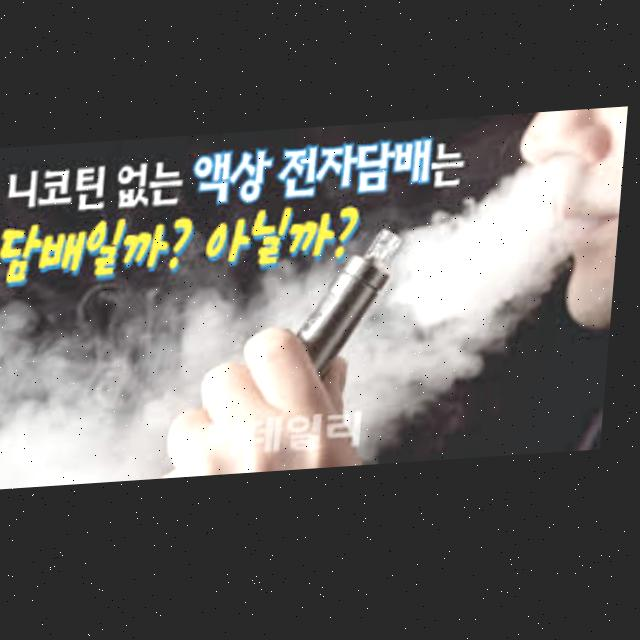vape: (300, 232, 406, 375)
